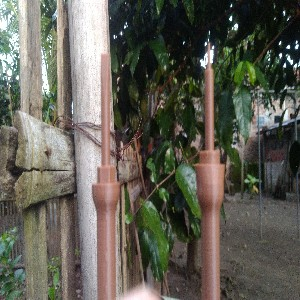obeng: (91, 53, 121, 300)
solder: (191, 37, 227, 300)
